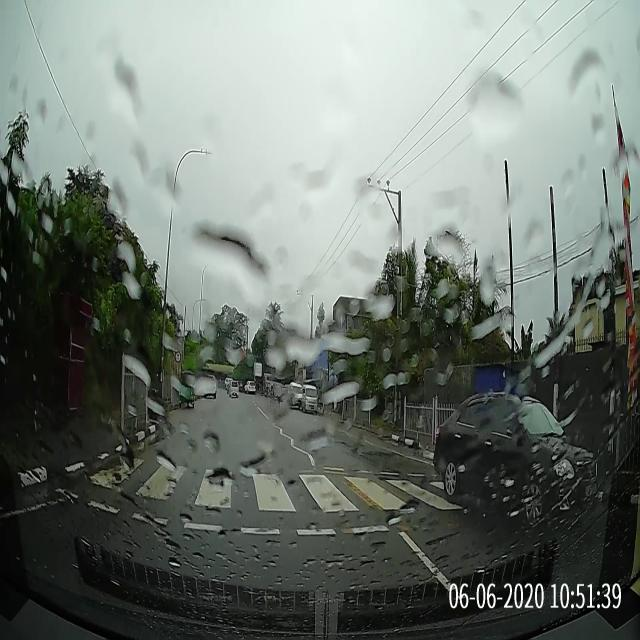Crosswalk: (46, 451, 480, 545)
